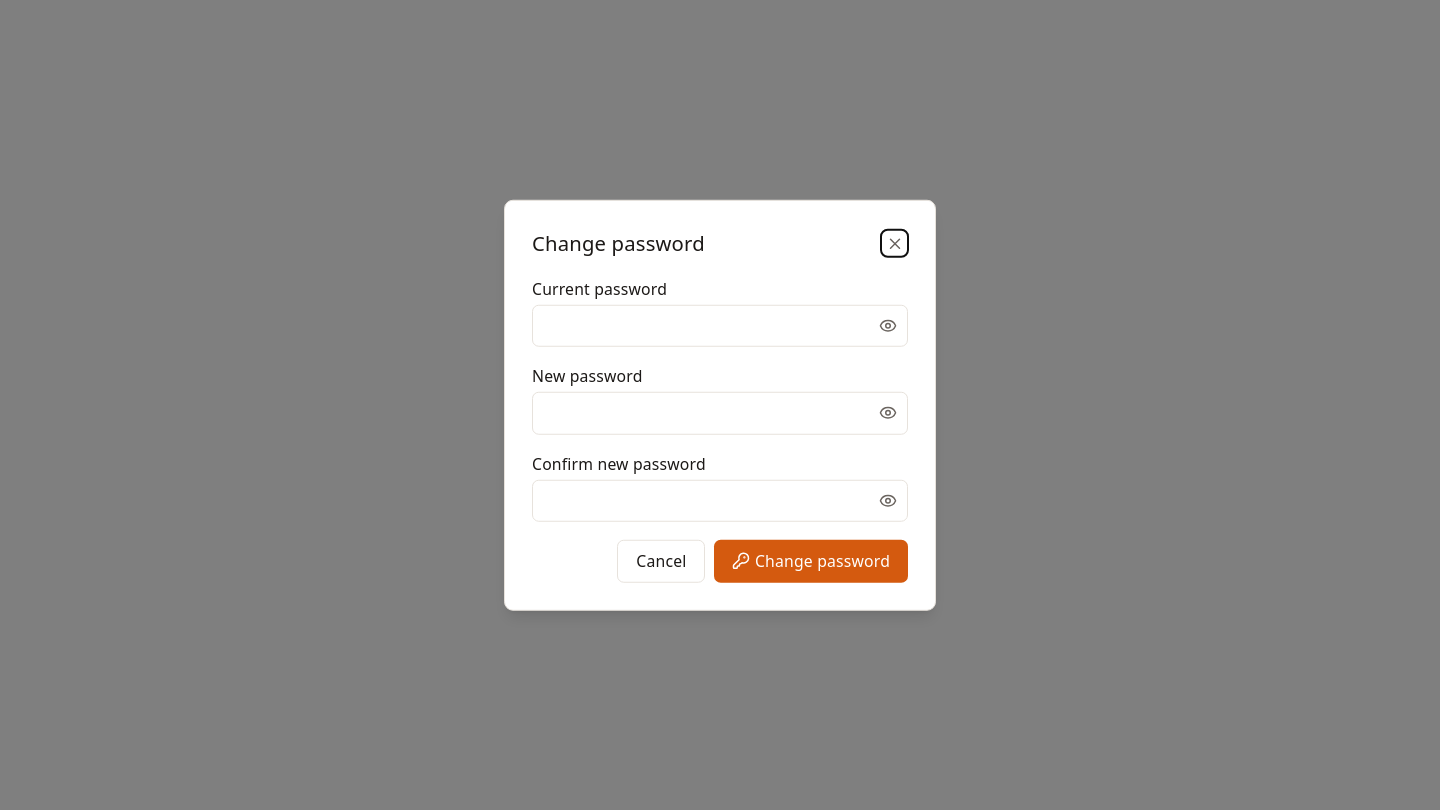
Scenario: ChangePasswordDialog › requires the current password and enforces the new-password minimum length
The image size is (1440, 810).
Type "short" into the password field labelled "New password" at (720, 413), box [532, 392, 908, 434]
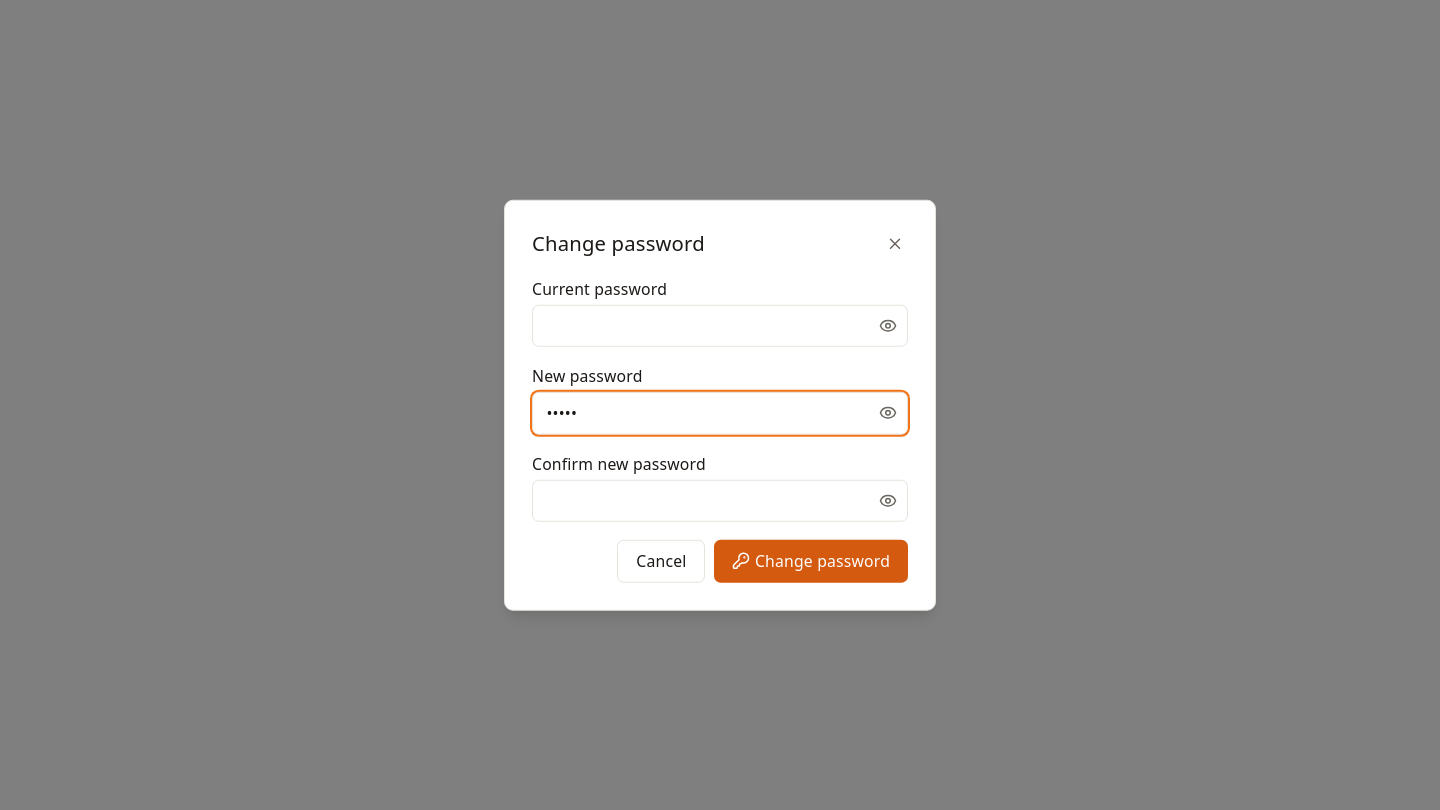
Type "short" into the password field labelled "Confirm new password" at (720, 501), box [532, 479, 908, 522]
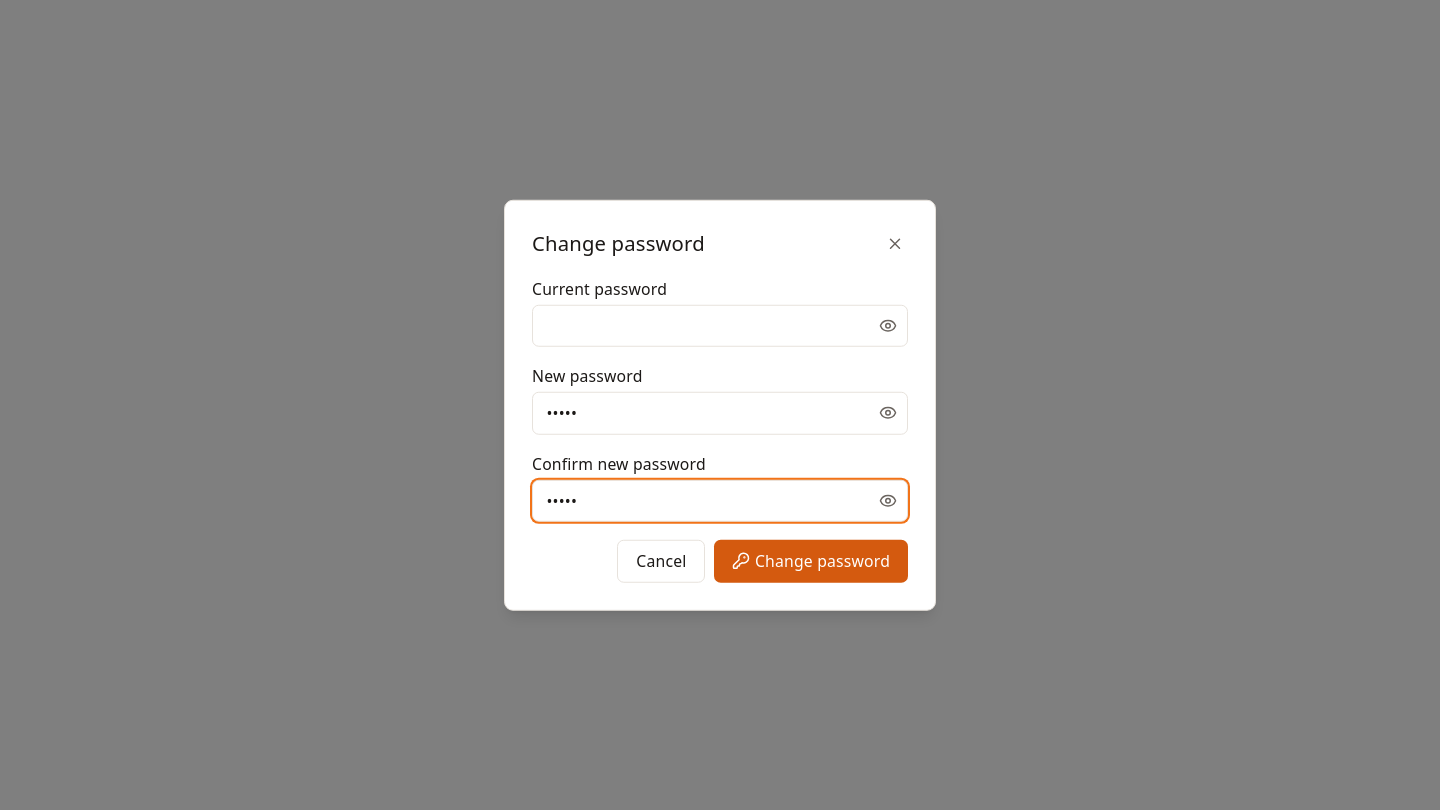
Click the button "Change password" at (811, 561), box [714, 540, 908, 582]
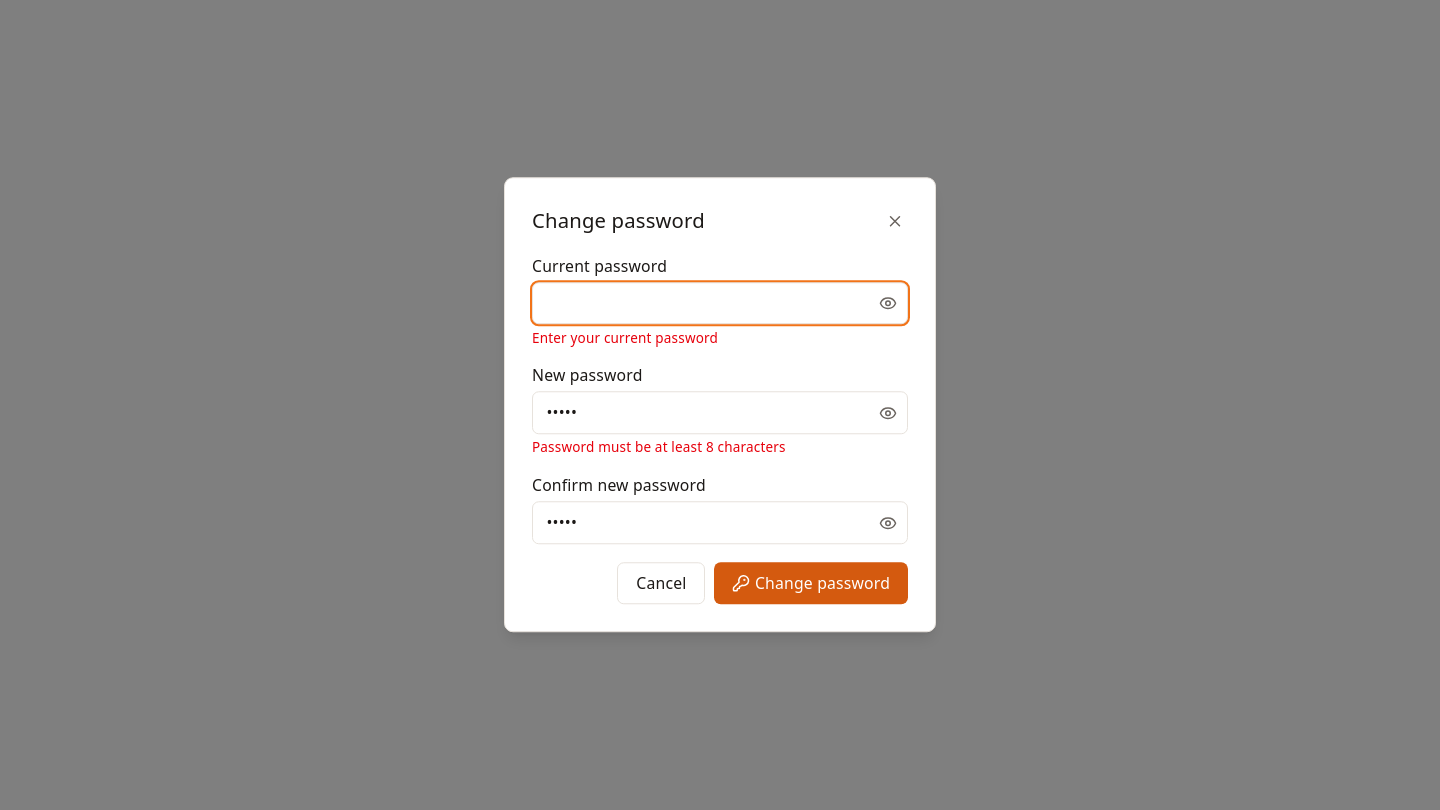
Check: the text "Enter your current password" is shown, box [532, 329, 718, 347]
Check: the text "Password must be at least 8 characters" is shown, box [532, 439, 786, 457]
